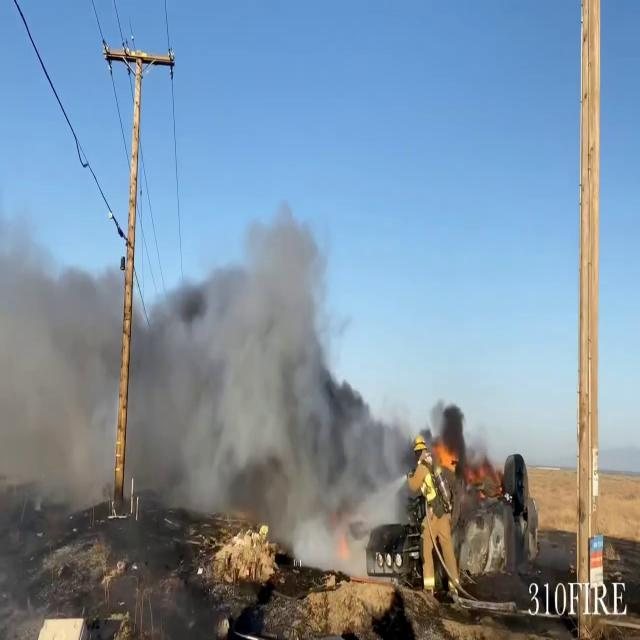Smoke: (125, 185, 402, 544), (0, 186, 117, 514)
